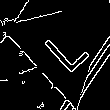L_NW: (34, 16, 90, 75)
